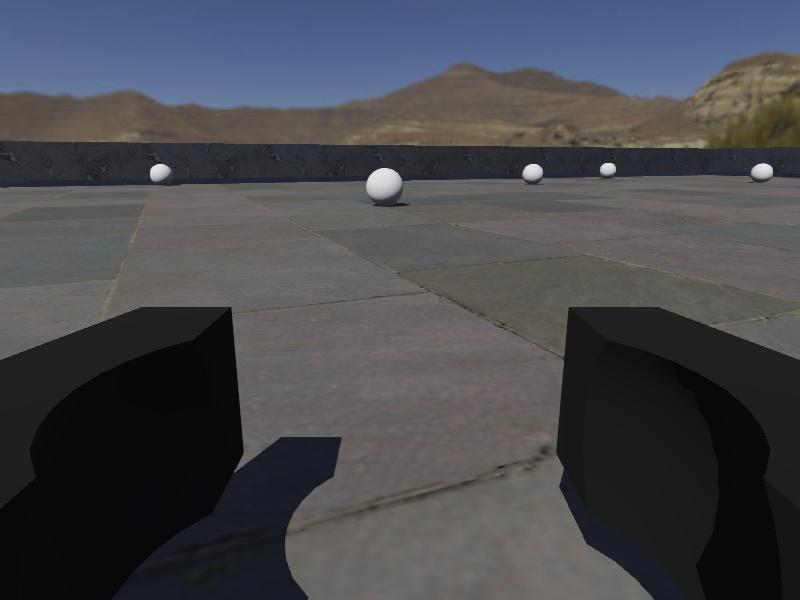white ball: (365, 167, 404, 205), (148, 162, 175, 188), (750, 161, 774, 185), (521, 162, 545, 185), (598, 160, 618, 178)
